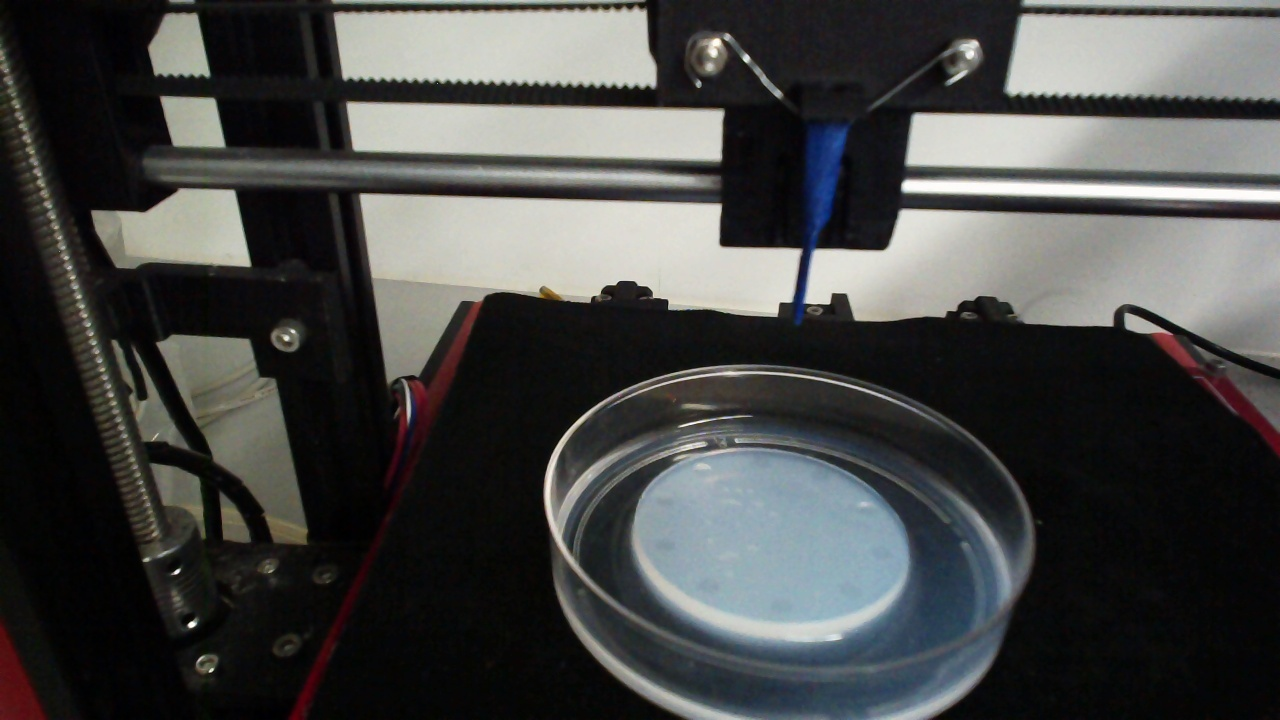groove: (766, 597, 795, 616), (690, 576, 720, 594), (868, 543, 893, 563), (837, 582, 863, 601), (650, 536, 675, 555), (852, 501, 880, 517), (691, 460, 713, 476), (750, 454, 772, 469), (809, 468, 830, 483), (653, 494, 677, 506)
needle: (790, 126, 848, 329)
